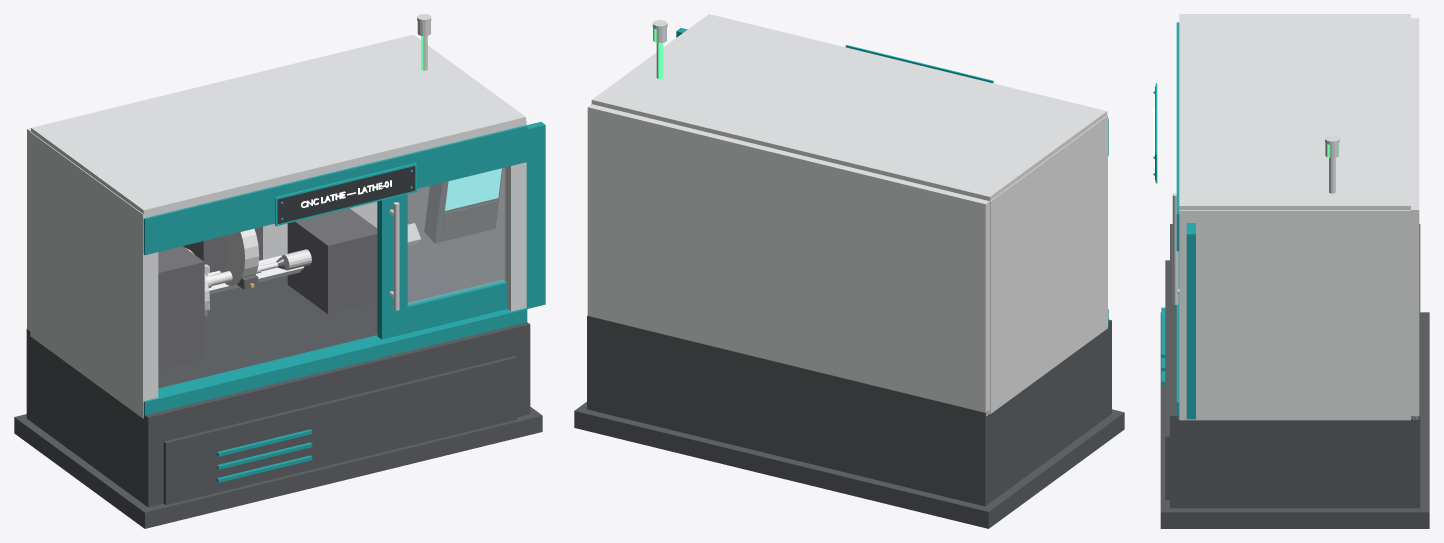
Rendered from lathe_01.glb.
3 renders of one model, left to right at view 1: azimuth 30°, elevation 25°; view 2: azimuth 150°, elevation 25°; view 3: azimuth 270°, elevation 25°, orthographic. The views are drawn at different scales.
Visible parts, largest first — view 1: LATHE_Frame_and_Enclosure, LATHE_Sliding_Door, LATHE_Tailstock, LATHE_Spindle_Chuck, LATHE_CNC_Console, Plaque_LATHE_01_Plate, LATHE_Tool_Turret, Plaque_LATHE_01_Trim; view 2: LATHE_Frame_and_Enclosure; view 3: LATHE_Frame_and_Enclosure, LATHE_Sliding_Door, LATHE_Signal_Beacon.
Part boxes in pixels (<box>): LATHE_Frame_and_Enclosure: <box>14,34,542,528</box>; LATHE_Sliding_Door: <box>377,122,545,339</box>; LATHE_Tailstock: <box>276,208,377,314</box>; LATHE_Spindle_Chuck: <box>158,246,278,370</box>; LATHE_CNC_Console: <box>424,168,502,243</box>; Plaque_LATHE_01_Plate: <box>277,166,415,223</box>; LATHE_Tool_Turret: <box>183,226,262,289</box>; Plaque_LATHE_01_Trim: <box>275,163,416,226</box>; LATHE_Frame_and_Enclosure: <box>574,14,1124,528</box>; LATHE_Frame_and_Enclosure: <box>1160,14,1429,528</box>; LATHE_Sliding_Door: <box>1172,193,1195,419</box>; LATHE_Signal_Beacon: <box>1325,135,1339,193</box>.
Bounding box in the file's own units: 2.65 × 2.22 × 1.49.
